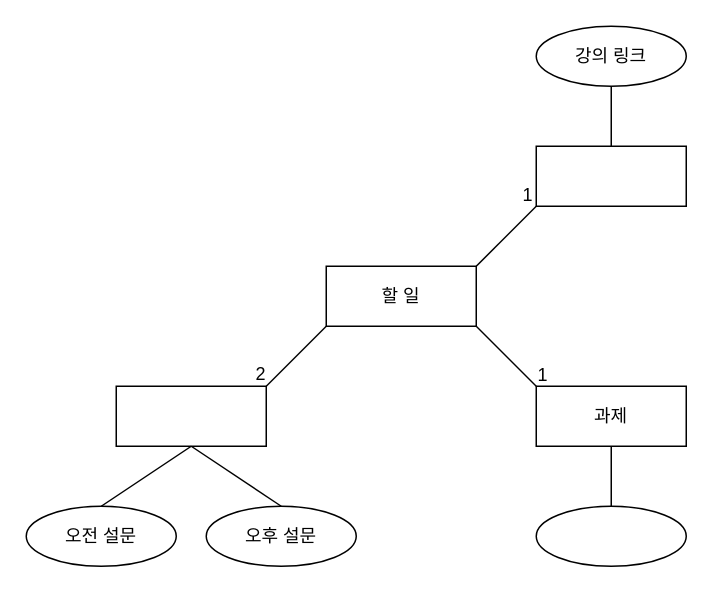
Some shapes in this 713 by 593 pixel diagram are drawn without their labels. The centre of each missing label's shape, as x and y in pixels:
"강의" goes at pixel 610 175.
"과제 바로가기" goes at pixel 610 535.
"설문" goes at pixel 190 415.
